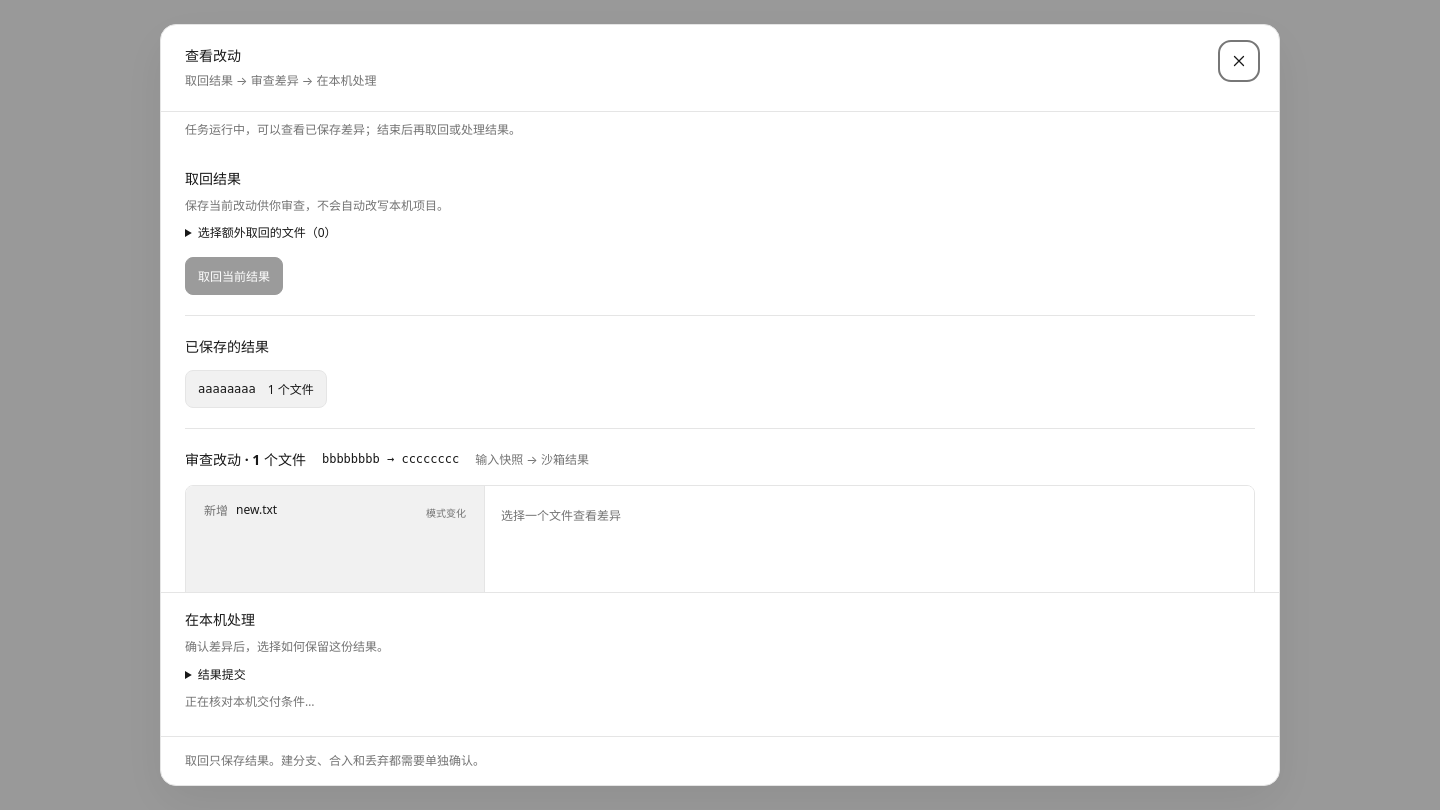
allows reading saved changes during a run but disables capturing and local delivery
This screenshot has width=1440, height=810.
Click the button "新增 new.txt 模式变化": (257, 510) top-left (192, 492), bottom-right (478, 531)
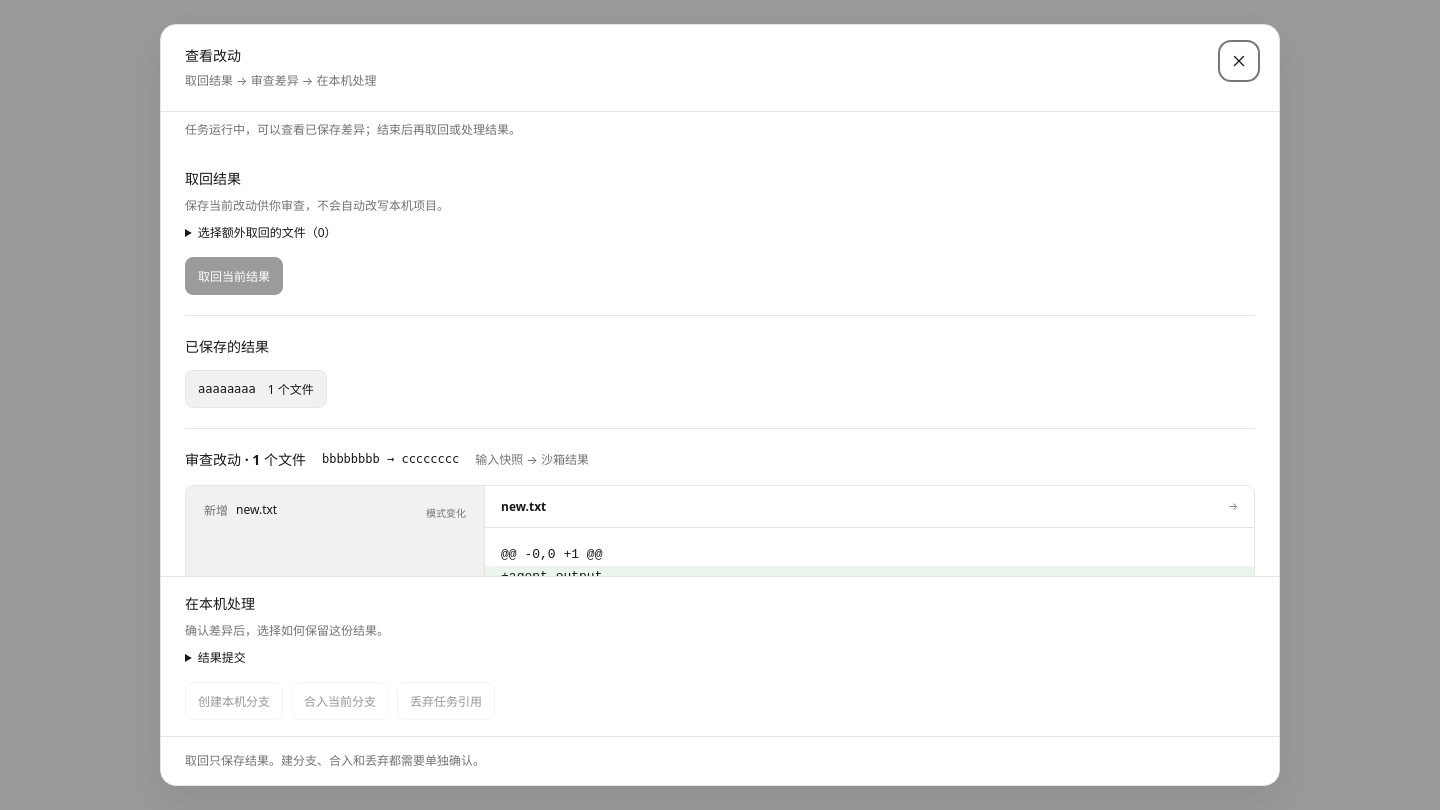
Expected: the element named "结果差异" is shown, top-left (485, 547), bottom-right (1254, 576)
Expected: the button "创建本机分支" is disabled, top-left (185, 682), bottom-right (283, 720)
Expected: the button "合入当前分支" is disabled, top-left (291, 682), bottom-right (389, 720)
